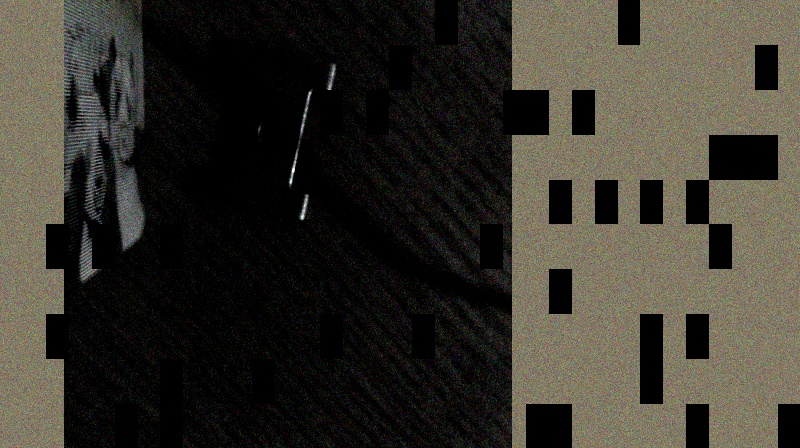O002: (202, 41, 339, 225)
